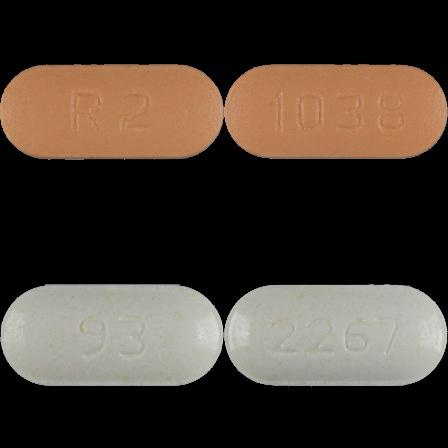16590-641: (0, 0, 224, 224)
